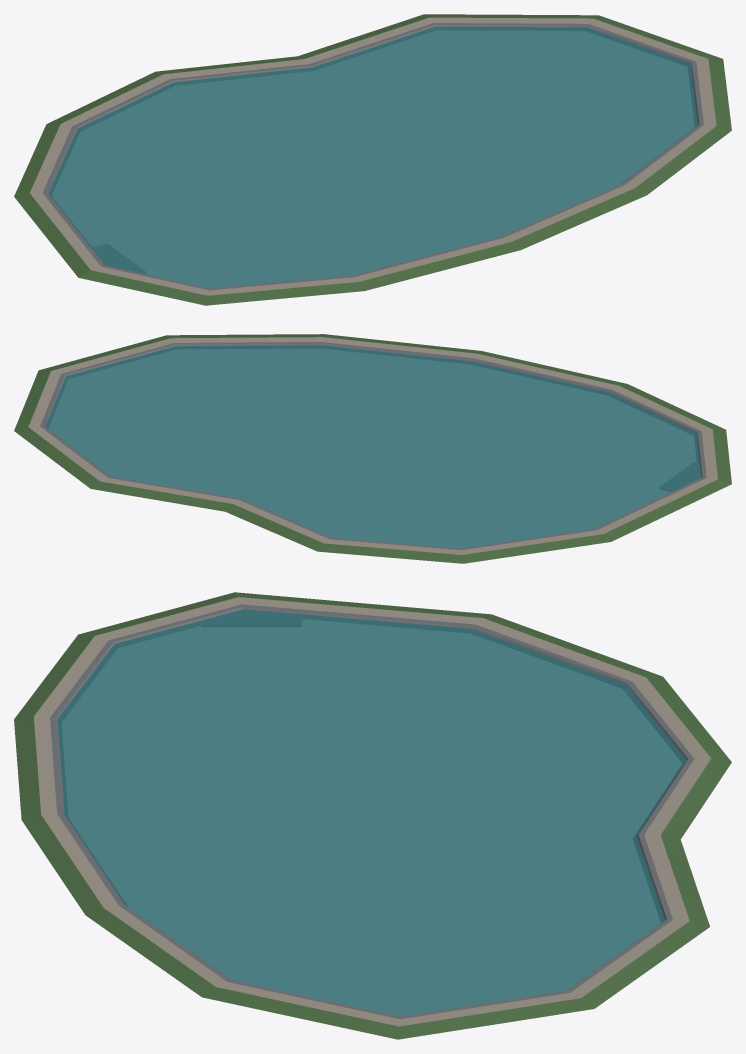
The model's file is water_ho_me_linh.glb.
The picture shows the model from 3 angles, top to bottom: view 1: azimuth 30°, elevation 25°; view 2: azimuth 150°, elevation 25°; view 3: azimuth 270°, elevation 25°; orthographic projection. The views are drawn at different scales.
Parts seen in each view (by area): view 1: water_surface_water_ho_me_linh, shoreline_terrain_transition_verge_water_ho_me_linh, lakeside_promenade_walkway_water_ho_me_linh, embankment_stone_coping_water_ho_me_linh, embankment_stone_slope_water_ho_me_linh; view 2: water_surface_water_ho_me_linh, shoreline_terrain_transition_verge_water_ho_me_linh, lakeside_promenade_walkway_water_ho_me_linh, embankment_stone_coping_water_ho_me_linh, embankment_stone_slope_water_ho_me_linh; view 3: water_surface_water_ho_me_linh, shoreline_terrain_transition_verge_water_ho_me_linh, lakeside_promenade_walkway_water_ho_me_linh, embankment_stone_coping_water_ho_me_linh, embankment_stone_slope_water_ho_me_linh.
Boxes of the visible parts, x1,y1,x2,y2 form: water_surface_water_ho_me_linh: (48,26,697,288); shoreline_terrain_transition_verge_water_ho_me_linh: (14,14,731,305); lakeside_promenade_walkway_water_ho_me_linh: (30,17,716,295); embankment_stone_coping_water_ho_me_linh: (42,23,703,290); embankment_stone_slope_water_ho_me_linh: (47,25,699,265); water_surface_water_ho_me_linh: (45,345,701,548); shoreline_terrain_transition_verge_water_ho_me_linh: (14,334,731,563); lakeside_promenade_walkway_water_ho_me_linh: (28,337,717,554); embankment_stone_coping_water_ho_me_linh: (40,342,706,550); embankment_stone_slope_water_ho_me_linh: (44,343,702,477); water_surface_water_ho_me_linh: (57,609,686,1016); shoreline_terrain_transition_verge_water_ho_me_linh: (14,592,731,1039); lakeside_promenade_walkway_water_ho_me_linh: (33,597,710,1026); embankment_stone_coping_water_ho_me_linh: (50,604,694,1019); embankment_stone_slope_water_ho_me_linh: (55,607,688,922).
Bounding box in the file's own units: 296 × 1.45 × 201.
